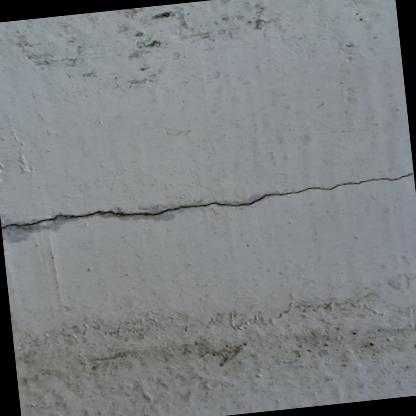crack: (1, 171, 414, 229)
